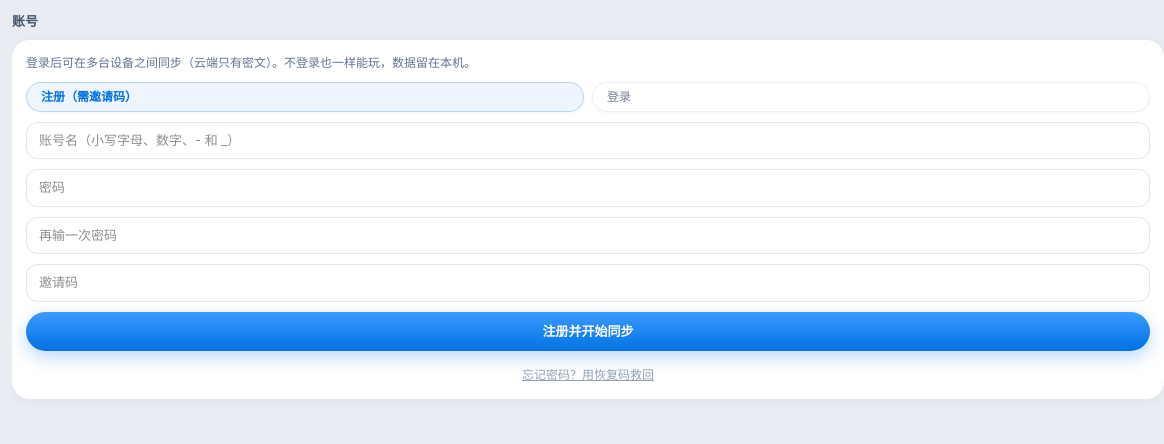
Scenario: AccountSection › 邀请码无效时显示服务器的人话错误
Type "bob" into the field with placeholder "账号名（小写字母、数字、- 和 _）".
click(588, 140); type("bob")  # box 26,122 -> 1150,159
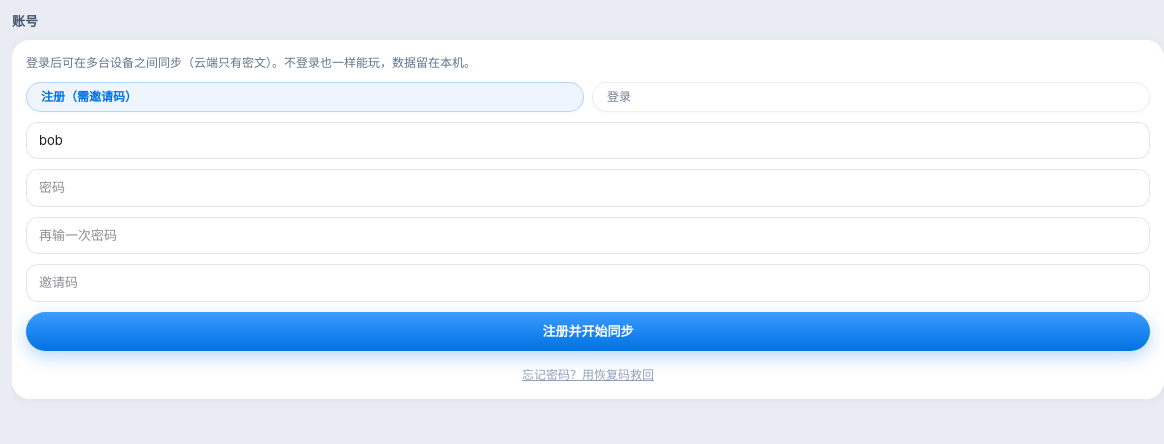
Type "pw-123456" into the password field with placeholder "密码".
click(588, 188); type("pw-123456")  # box 26,169 -> 1150,206
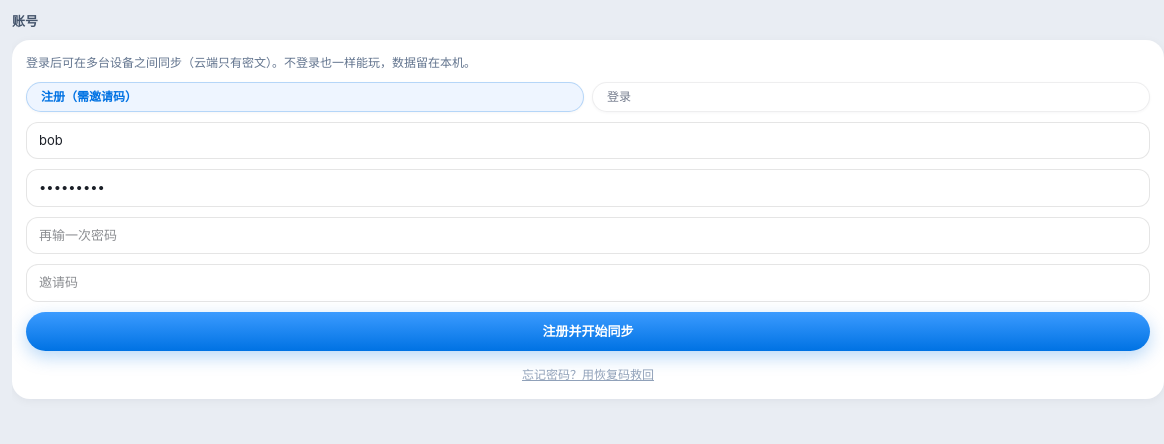
Type "pw-123456" into the password field with placeholder "再输一次密码".
click(588, 235); type("pw-123456")  # box 26,216 -> 1150,254
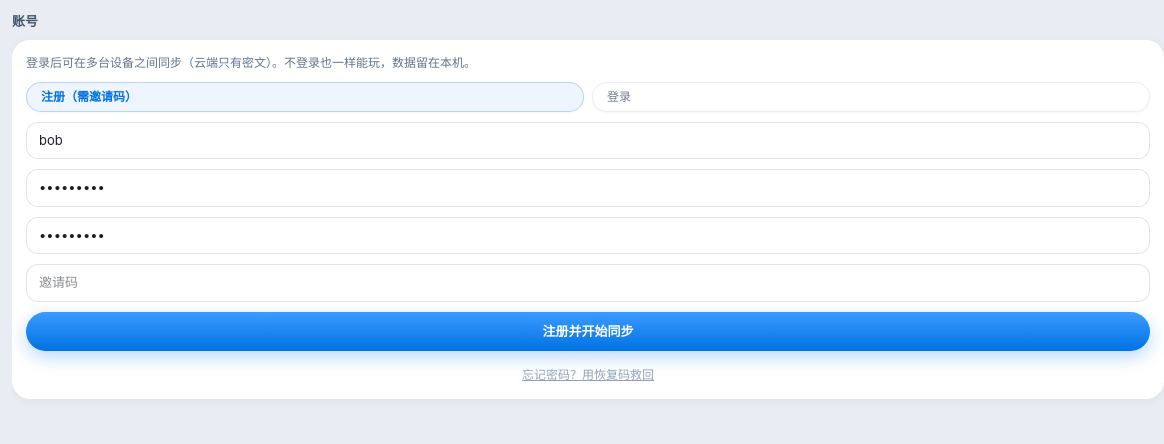
Type "WRONG-CODE" into the field with placeholder "邀请码".
click(588, 283); type("WRONG-CODE")  # box 26,264 -> 1150,302
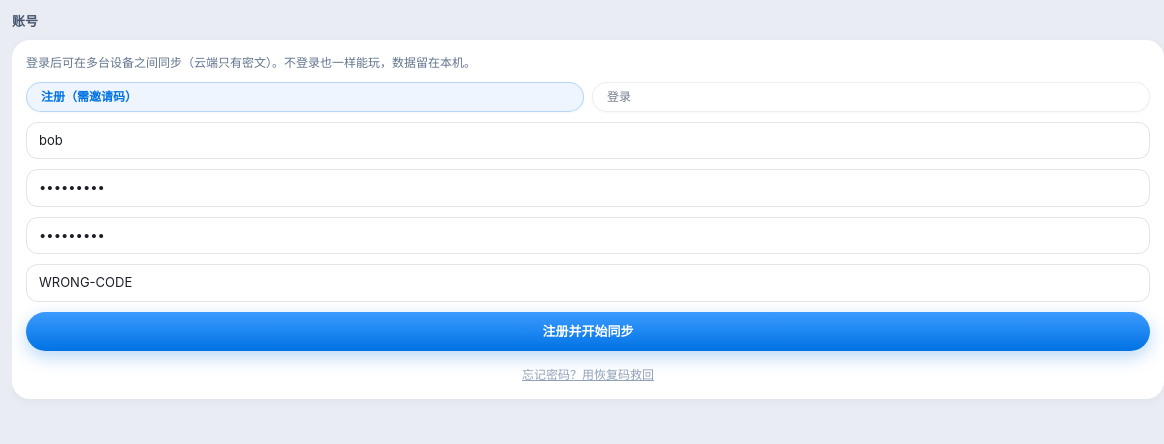
Click the button "注册并开始同步".
click(588, 331)  # box 26,312 -> 1150,351
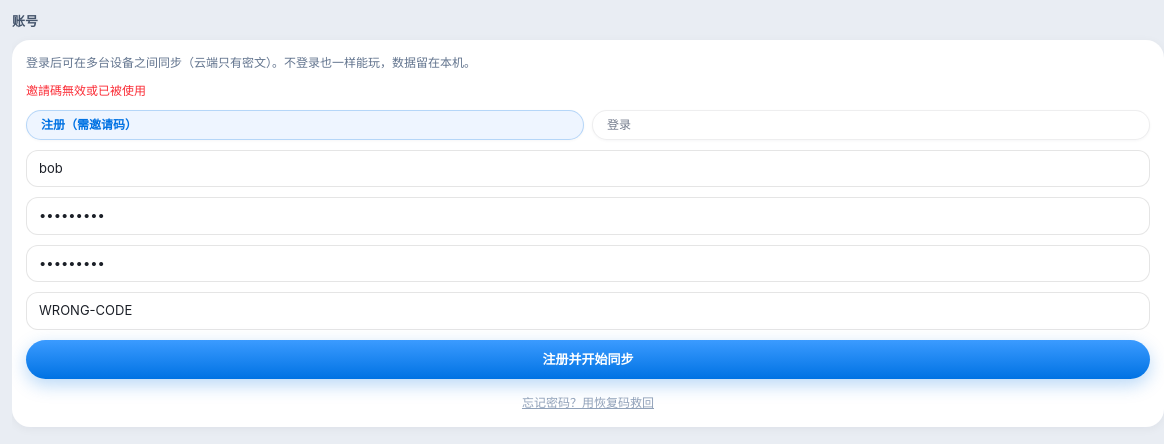
Now the text "邀請碼無效或已被使用" is shown, box 26,82 -> 146,98
